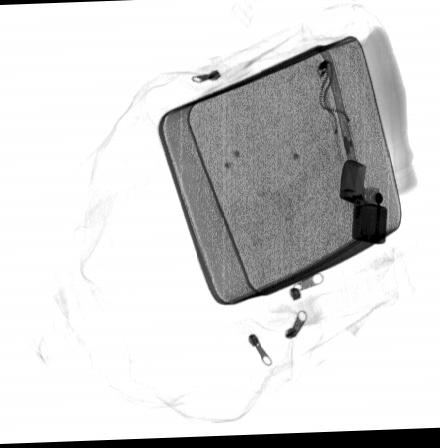Lighter: (338, 160, 388, 247)
